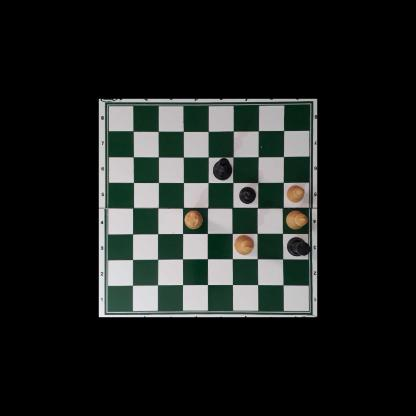black-king: (212, 158, 232, 180)
black-pawn: (239, 185, 256, 204)
black-rook: (286, 236, 309, 257)
white-bishop: (286, 210, 308, 230)
white-king: (234, 234, 254, 255)
white-pawn: (286, 185, 304, 202)
white-rook: (184, 210, 202, 229)
